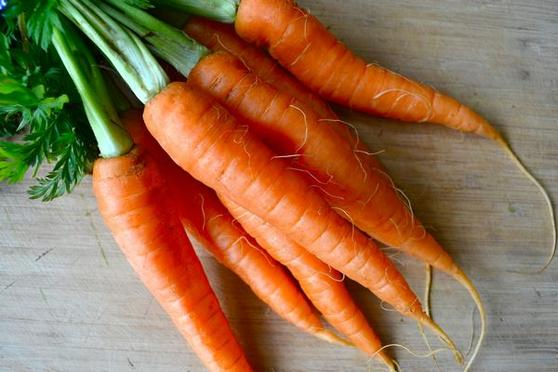carrot: (145, 85, 430, 319), (242, 1, 505, 136), (118, 158, 244, 372)
